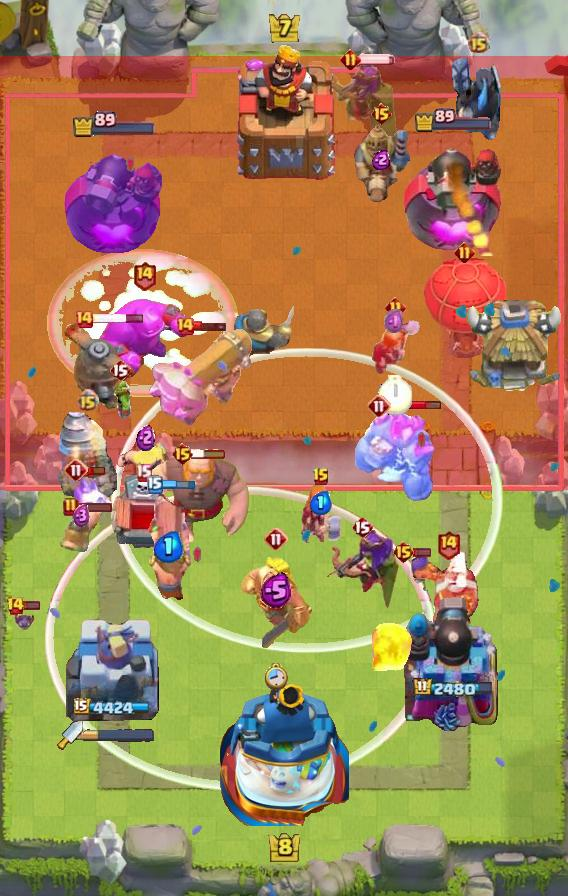arrows: (115, 439, 175, 497)
balloon: (146, 451, 252, 547)
bar: (66, 611, 162, 731)
barbarian-barrel: (13, 606, 37, 632)
barbarian-hut: (325, 60, 403, 146), (323, 528, 401, 614)
battle-healer: (145, 488, 193, 602)
cannon-cart: (422, 256, 506, 358)
cannoneer-tower: (352, 409, 436, 501)
clone: (93, 296, 195, 380)
dark-prince: (53, 323, 147, 409)
electro-spirit: (260, 571, 292, 609), (154, 531, 184, 563), (384, 308, 406, 336), (310, 491, 332, 515), (136, 424, 155, 451), (73, 504, 91, 528), (372, 149, 391, 170)
elixir: (378, 375, 412, 415), (264, 663, 288, 691)
elixir-collector: (412, 549, 484, 629)
elixir-golem-mid: (108, 473, 178, 559)
emote: (389, 400, 442, 412), (91, 313, 144, 324), (358, 53, 396, 65), (192, 320, 228, 332), (191, 448, 227, 460), (77, 502, 113, 513), (160, 479, 195, 490), (86, 465, 106, 476), (22, 600, 42, 611), (413, 546, 432, 557)
executioner: (60, 504, 102, 554)
firecracker: (232, 306, 294, 358)
furnace: (146, 328, 256, 434)
goblin: (406, 553, 436, 593)
goblin-hut: (238, 556, 314, 652)
hog-rider: (368, 316, 422, 376), (297, 484, 345, 546)
inferno-dragon: (448, 54, 508, 148)
king-tower: (219, 678, 349, 826), (230, 43, 338, 181)
king-tower-bar: (83, 728, 155, 742)
magic-archer: (57, 411, 117, 503)
mirror: (70, 474, 112, 524)
phoenix-big: (46, 246, 240, 398)
prince: (464, 300, 566, 396)
ram-rider: (352, 124, 410, 206)
selected: (71, 111, 156, 138), (414, 108, 494, 133), (412, 677, 494, 699), (74, 698, 154, 718)
text: (131, 261, 156, 292), (435, 529, 460, 560), (367, 394, 391, 418), (64, 458, 88, 482), (264, 527, 288, 551), (466, 30, 489, 54), (370, 102, 393, 126), (171, 442, 194, 466), (393, 540, 416, 564), (77, 389, 100, 412), (109, 358, 131, 382), (351, 515, 373, 539), (453, 241, 474, 263), (385, 297, 406, 319), (339, 49, 360, 70), (74, 309, 94, 329), (175, 316, 195, 336), (6, 596, 26, 616), (312, 467, 330, 487), (135, 463, 153, 482), (63, 497, 79, 517), (147, 476, 163, 494)
tower-bar: (404, 593, 502, 731), (404, 138, 505, 256), (64, 138, 164, 256)
valkyrie: (369, 617, 415, 675)
zap: (104, 374, 136, 422)
